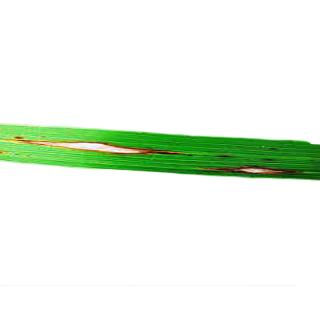Blast: (15, 128, 183, 162), (210, 158, 234, 166)
